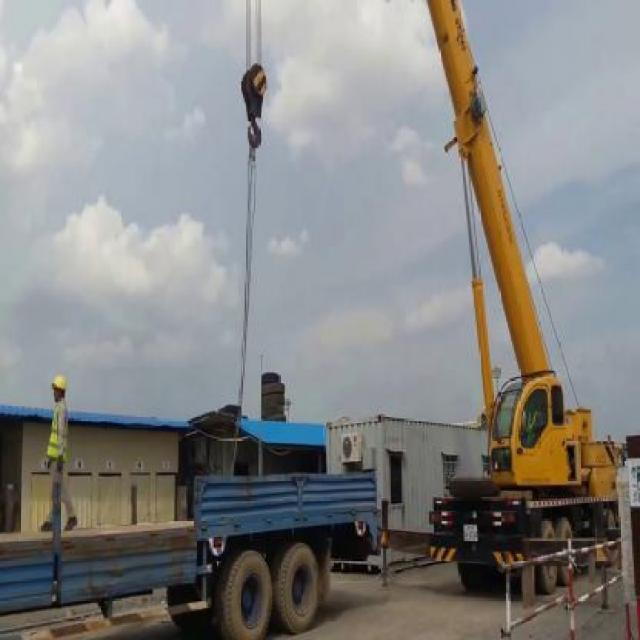Mobile Crane: (427, 0, 618, 603)
